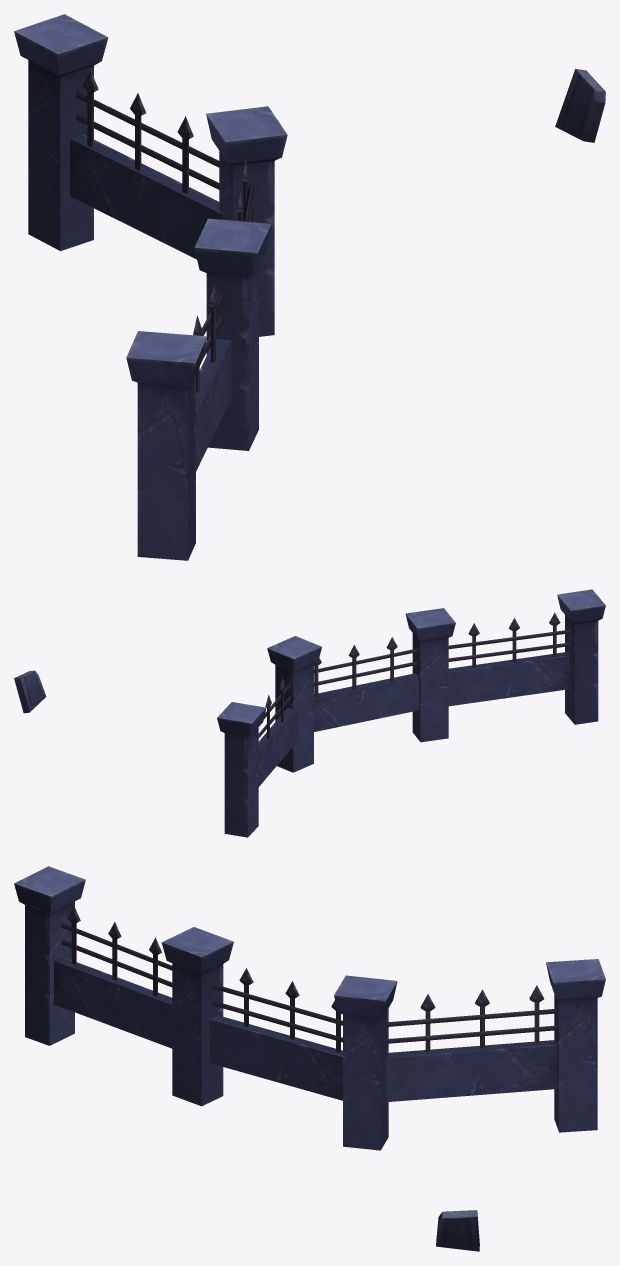
File: Area09_19.fbx
3 renders of one model, top to bottom at view 1: azimuth 30°, elevation 25°; view 2: azimuth 150°, elevation 25°; view 3: azimuth 270°, elevation 25°, orthographic. The views are drawn at different scales.
Visible parts, largest first — view 1: Area09_19; view 2: Area09_19; view 3: Area09_19.
Boxes of the visible parts, x1,y1,x2,y2 form: Area09_19: (14, 14, 605, 560); Area09_19: (14, 589, 605, 837); Area09_19: (14, 866, 605, 1251).
Bounding box in the file's own units: 2369 × 618 × 2158.
